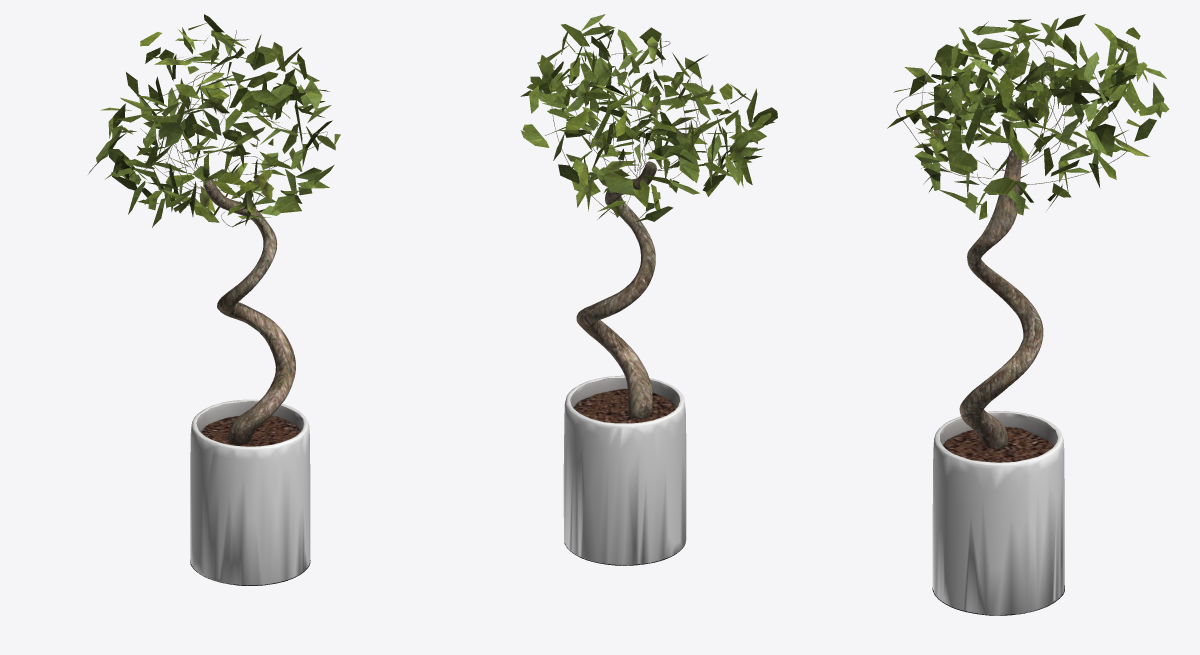
File: raw_model.obj
3 views of the same model, side by side, from view 1: azimuth 30°, elevation 25°; view 2: azimuth 150°, elevation 25°; view 3: azimuth 270°, elevation 25° (orthographic). The views are drawn at different scales.
Parts seen in each view (by area): view 1: solid_001, solid_002, solid_004, solid_003; view 2: solid_001, solid_002, solid_004, solid_003; view 3: solid_001, solid_002, solid_004, solid_003.
Boxes of the visible parts, x1,y1,x2,y2 form: solid_001: (88, 14, 340, 227); solid_002: (190, 399, 310, 585); solid_004: (147, 30, 327, 444); solid_003: (201, 416, 300, 446); solid_001: (520, 14, 777, 222); solid_002: (563, 375, 686, 565); solid_004: (551, 41, 707, 418); solid_003: (573, 389, 676, 423); solid_001: (887, 14, 1169, 219); solid_002: (932, 411, 1064, 615); solid_004: (896, 34, 1127, 448); solid_003: (943, 427, 1053, 462).
Size of the model in its own units: 0.3367 by 0.6506 by 0.337.
1 material, 1 textured.
